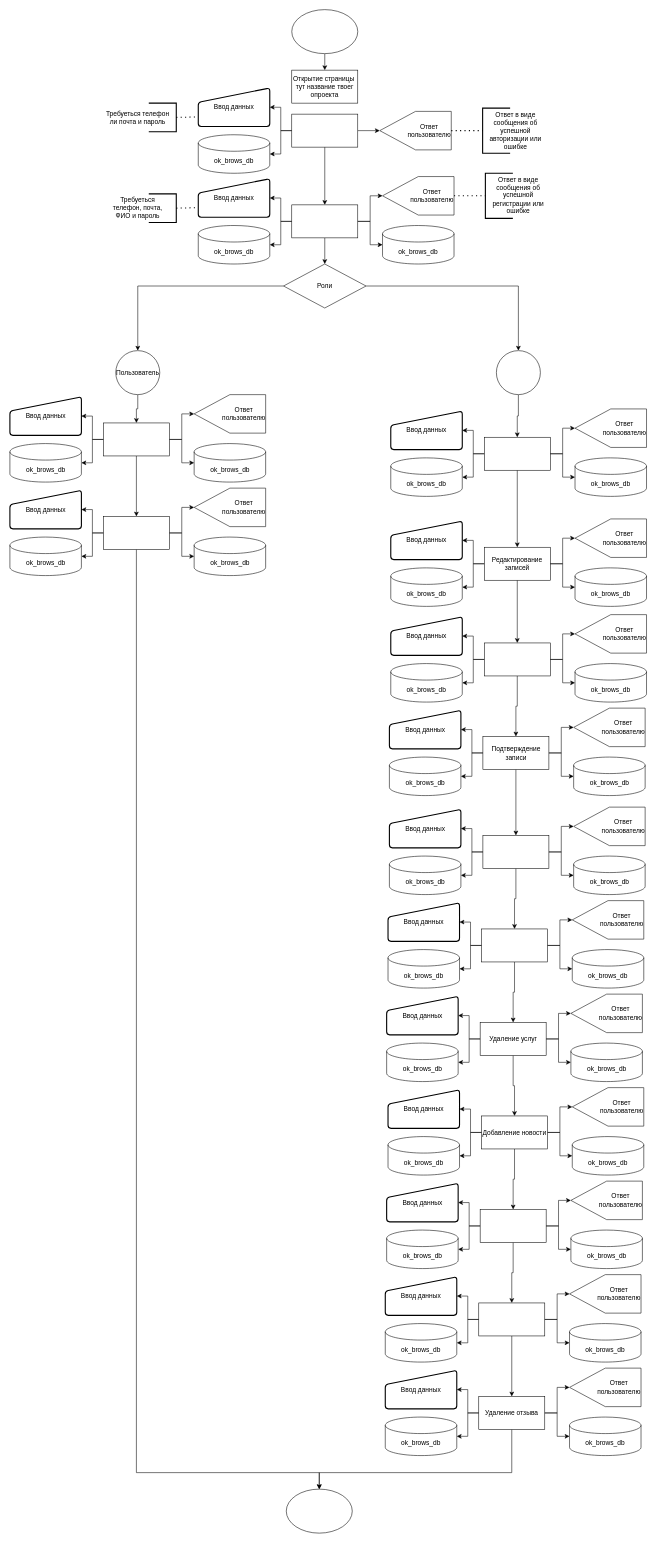
The diagram is 656 pixels wide and 1543 high, and some of its shapes have lost their labels. Here are the shapes that lost their labels. From the top down, the box of each, then its label:
(291, 9, 358, 54): Начало
(291, 114, 358, 147): Идентификация пользователя
(291, 204, 358, 238): Регистрация
(496, 350, 540, 395): Администратор
(103, 422, 169, 456): Создание записи
(484, 437, 550, 470): Планирование рабочего времени
(103, 516, 169, 549): Создание отзыва
(484, 642, 550, 676): Удаление записей
(482, 835, 549, 868): Добавление услуг
(481, 928, 548, 962): Редактирование услуг
(480, 1209, 546, 1242): редактирвоание новости
(478, 1302, 545, 1336): Удаление новости
(286, 1489, 352, 1533): Конец
